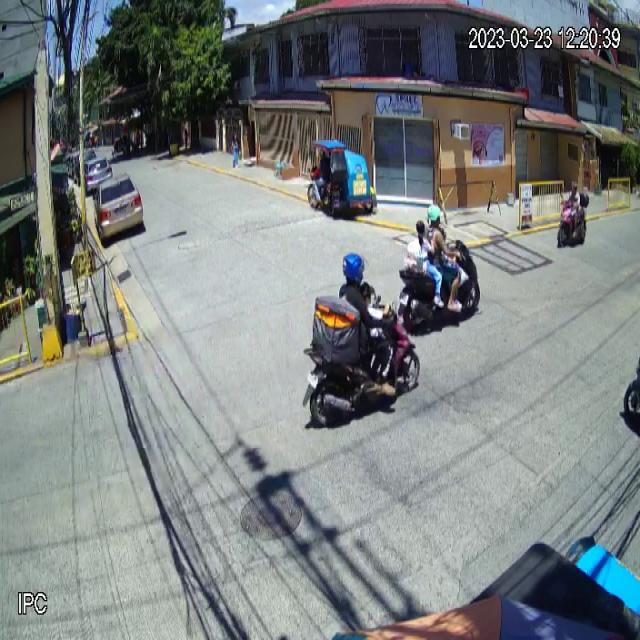Motorcycle: (302, 294, 419, 429), (398, 239, 482, 333)
Tricycle: (307, 139, 378, 219)
